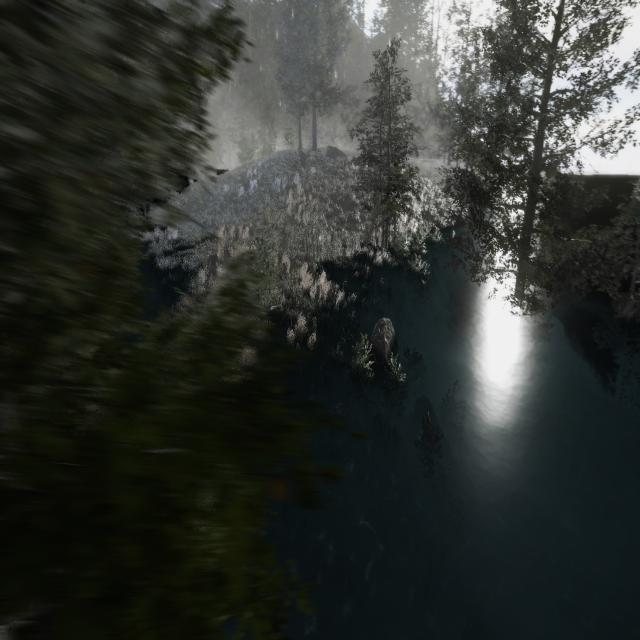Human: (308, 314, 318, 350)
